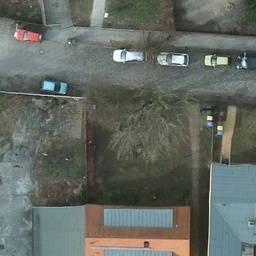car: (155, 49, 191, 68), (13, 28, 48, 45), (112, 47, 147, 64), (40, 79, 67, 97), (201, 52, 231, 67)
